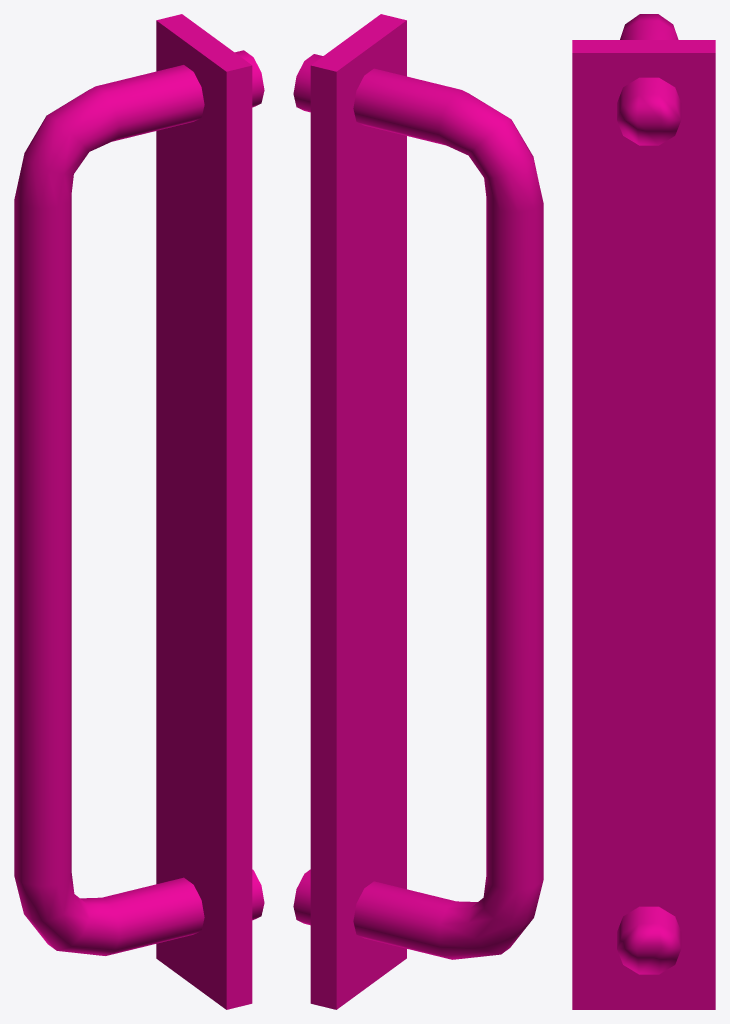
Rendered from Furniture_Handle.fbx.
3 views of the same model, side by side, from view 1: azimuth 30°, elevation 25°; view 2: azimuth 150°, elevation 25°; view 3: azimuth 270°, elevation 25° (orthographic). The views are drawn at different scales.
Parts seen in each view (by area): view 1: Furniture_Handle; view 2: Furniture_Handle; view 3: Furniture_Handle.
Boxes of the visible parts, x1,y1,x2,y2 form: Furniture_Handle: (14,14,264,1009); Furniture_Handle: (293,14,543,1009); Furniture_Handle: (572,14,715,1009).
Size of the model in its own units: 48.12 by 188 by 25.5.
